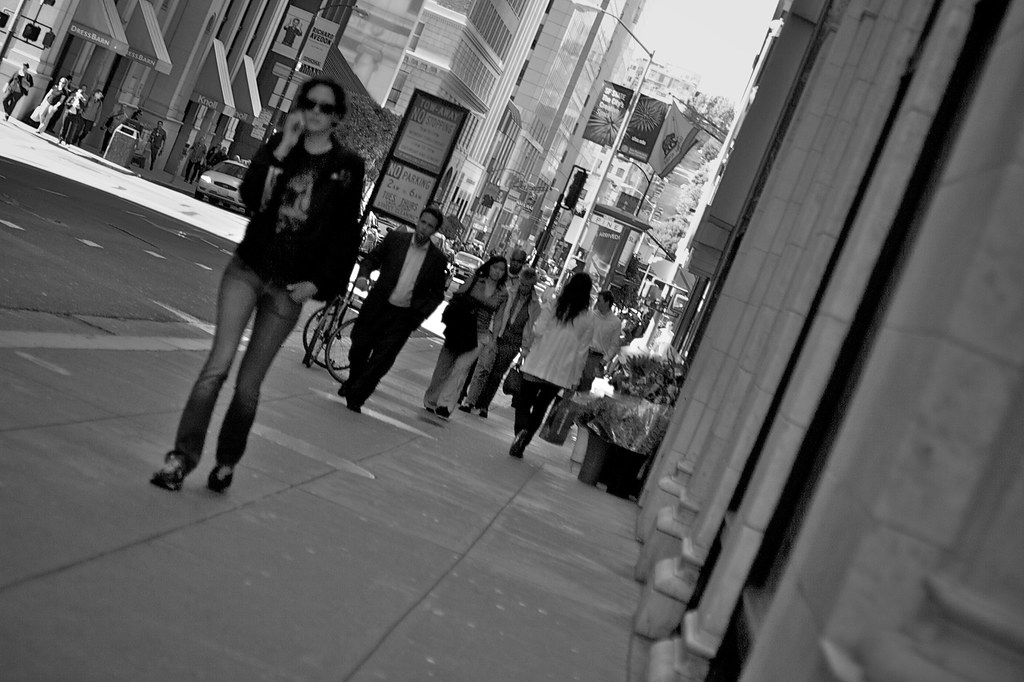phone: (284, 102, 312, 143)
